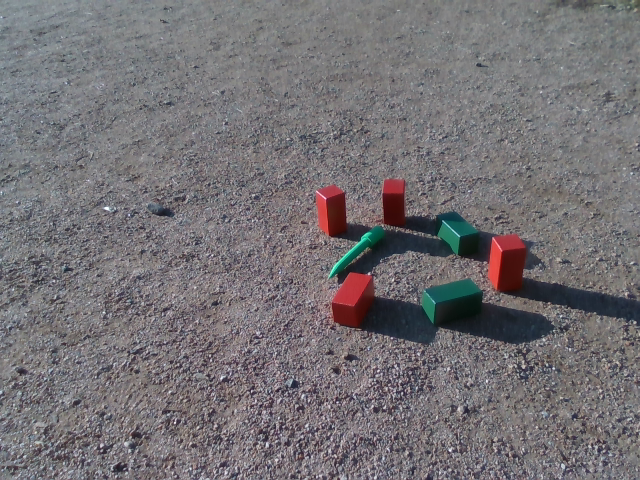Probe: (329, 221, 384, 277)
